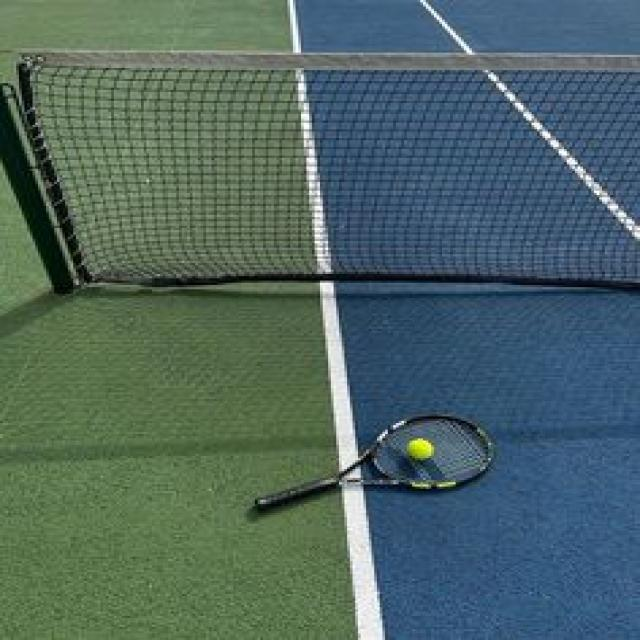tennis: (400, 431, 438, 466)
